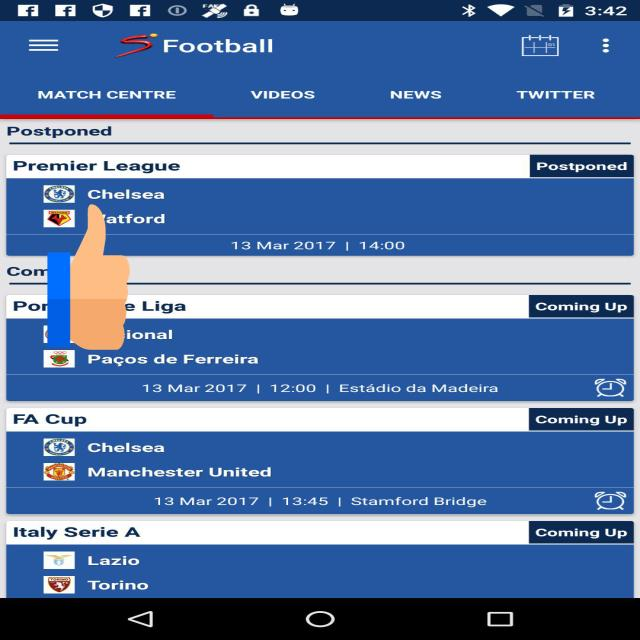privacy zuckering: (47, 201, 130, 353)
